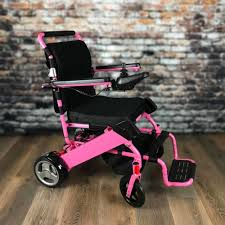wheelchair: (23, 29, 195, 202)
